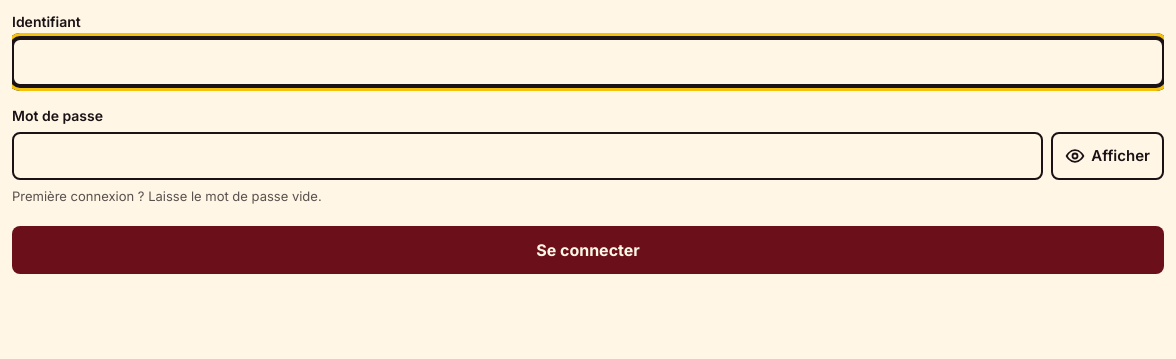
Test: LoginForm › erreur : alerte, identifiant conservé, mot de passe vidé, focus sur l'identifiant
Step 1. Type "theo.bernard" into the field labelled "Identifiant" → x=588, y=62, box [12,38,1164,86]
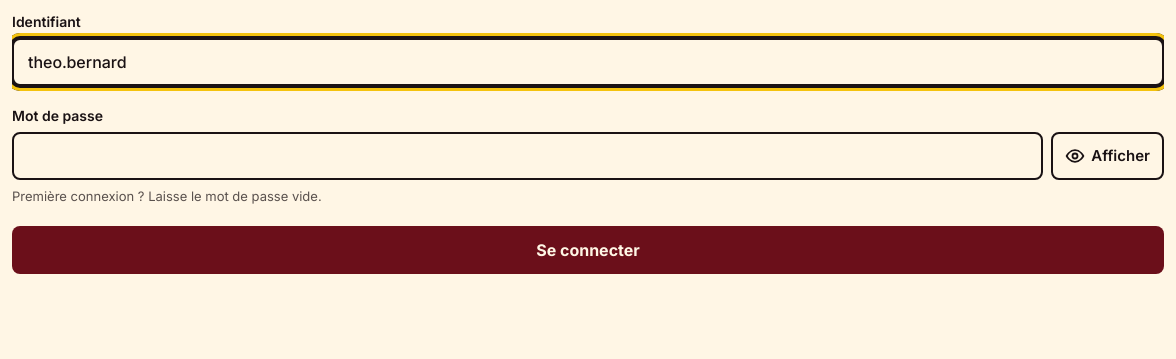
Step 2. Type "mauvais" into the password field labelled "Mot de passe" → x=528, y=156, box [12,132,1043,180]
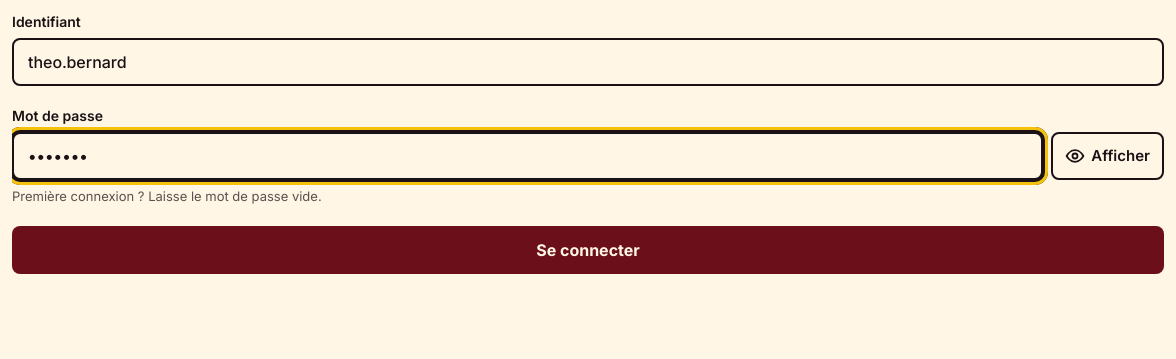
Step 3. Click the button "Se connecter" → x=588, y=250, box [12,226,1164,274]
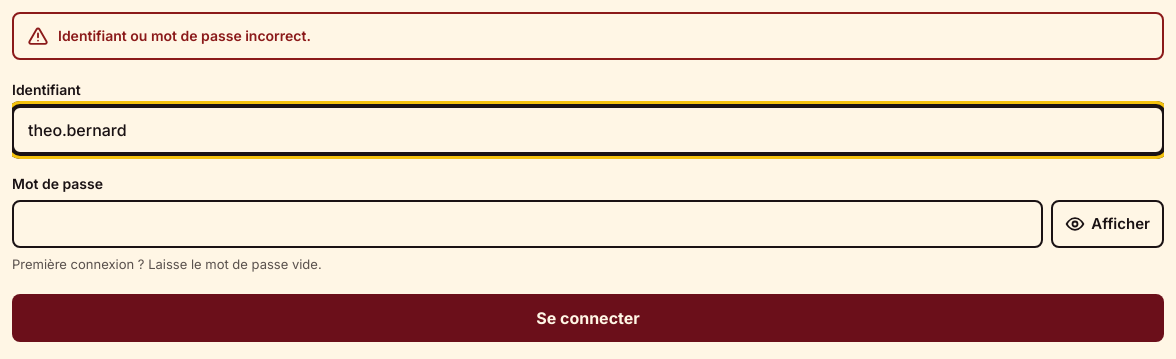
Check: the field labelled "Identifiant" holds "theo.bernard", box [12,106,1164,154]
Check: the message reads "Identifiant ou mot de passe incorrect.", box [58,27,311,44]
Check: the password field labelled "Mot de passe" is empty, box [12,200,1043,248]
